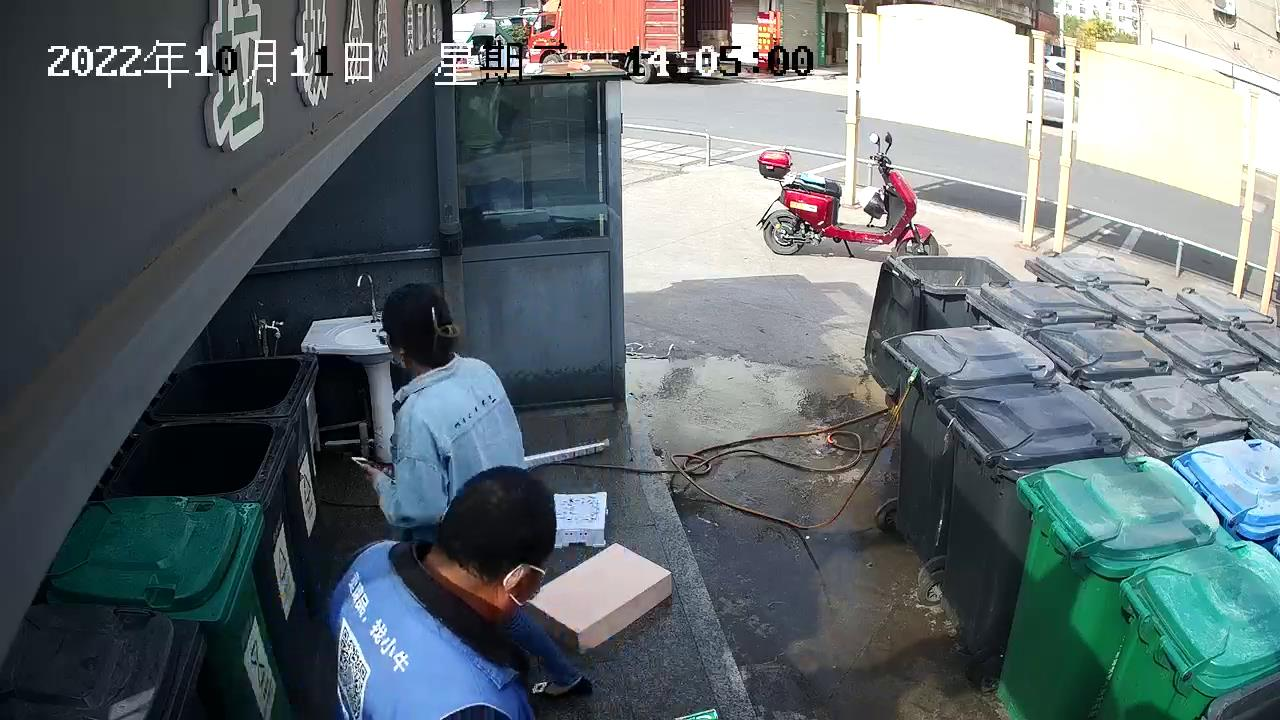suliaozhipin: (548, 487, 611, 550)
worker: (308, 464, 594, 720), (351, 286, 530, 548)
zhizhipin: (522, 538, 674, 656)
